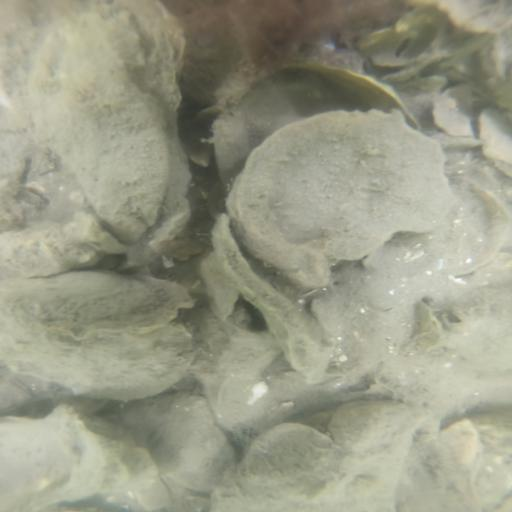Oyster-Closed: (228, 111, 454, 289), (28, 11, 171, 237), (211, 214, 339, 379), (3, 306, 199, 400), (212, 439, 415, 512), (6, 270, 195, 338), (120, 394, 238, 494), (399, 416, 510, 512), (242, 423, 337, 486), (1, 225, 106, 279), (333, 401, 419, 451)
Oyster-Open: (293, 56, 418, 125)
